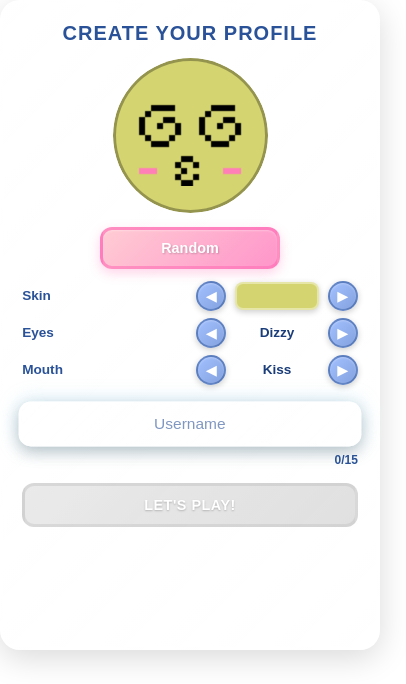
ProfileMenu Component › Profile Submission › should show server unavailable when socket timeout is missing
This screenshot has width=406, height=684.
Type "TestUser" into the field. click: point(190, 424)
box: [19,402,361,447]
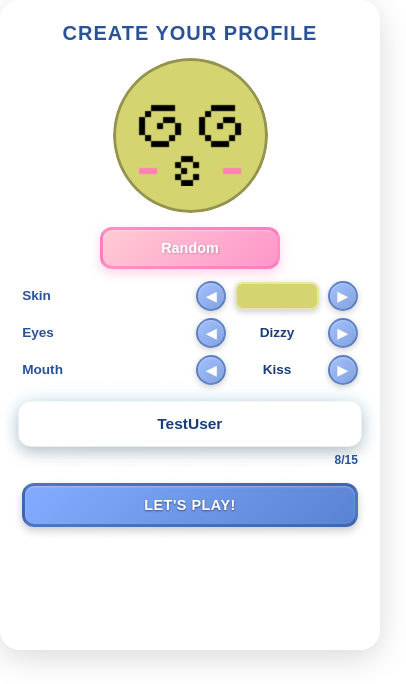
Click the button "Let's Play!". click: point(190, 505)
box: [22,483,358,527]
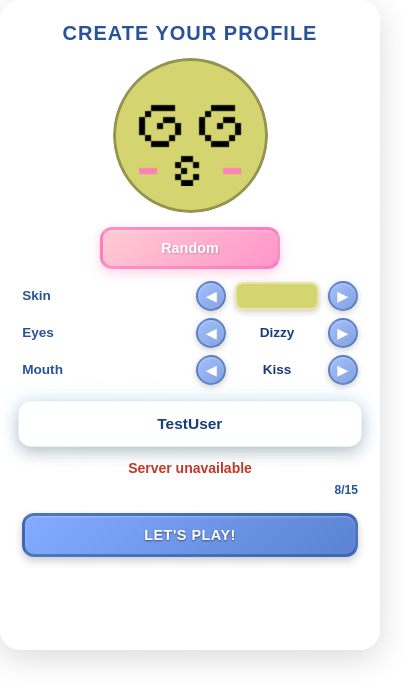
Now the text "Server unavailable" is shown, box [128,460,252,476]
